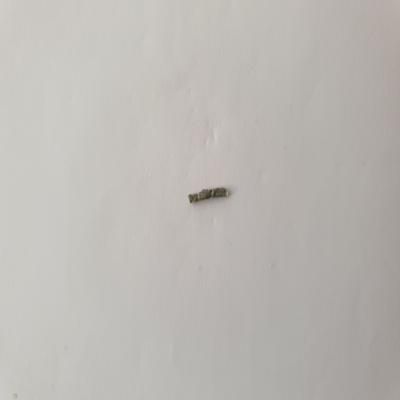plastic: (180, 185, 236, 207)
